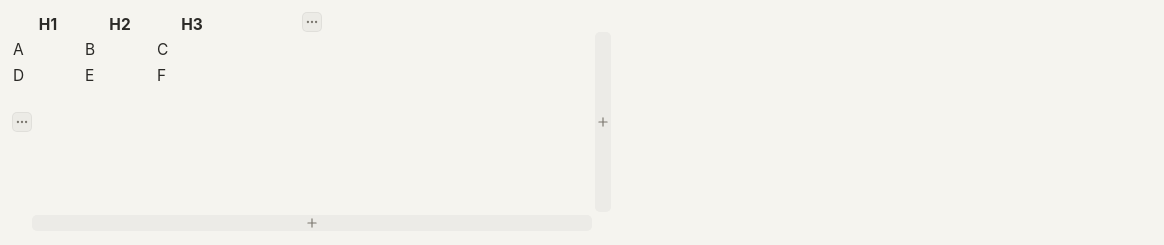
Test case: TableControlsOverlay › actions: 删除行
This screenshot has width=1164, height=245.
Check: the button named "在表格右侧新增列" is shown, box [595,32,611,212]
Click the button named "当前行操作". click: (22, 122)
box: [12,112,32,132]
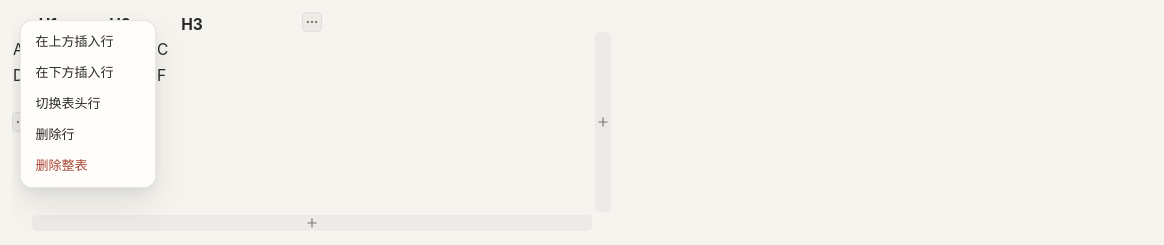
Check: the element with class "table-action-menu" is shown, box [20,20,156,188]
Check: the button "删除行" is shown
Click the button "删除行". click: (88, 135)
box: [27,120,149,151]
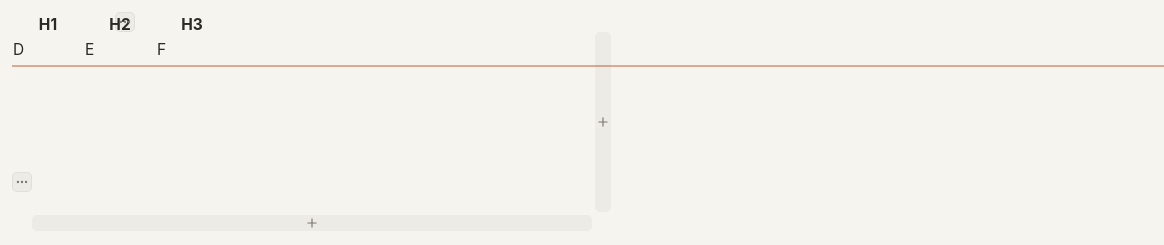
Check: the element with class "table-action-menu" is gone
